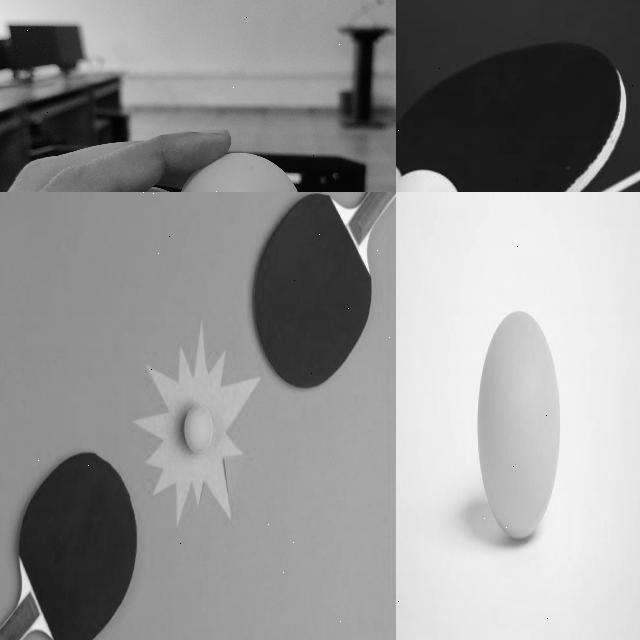ping-pong-ball: (477, 309, 560, 544), (173, 153, 303, 191), (396, 169, 462, 191), (184, 404, 212, 452)
